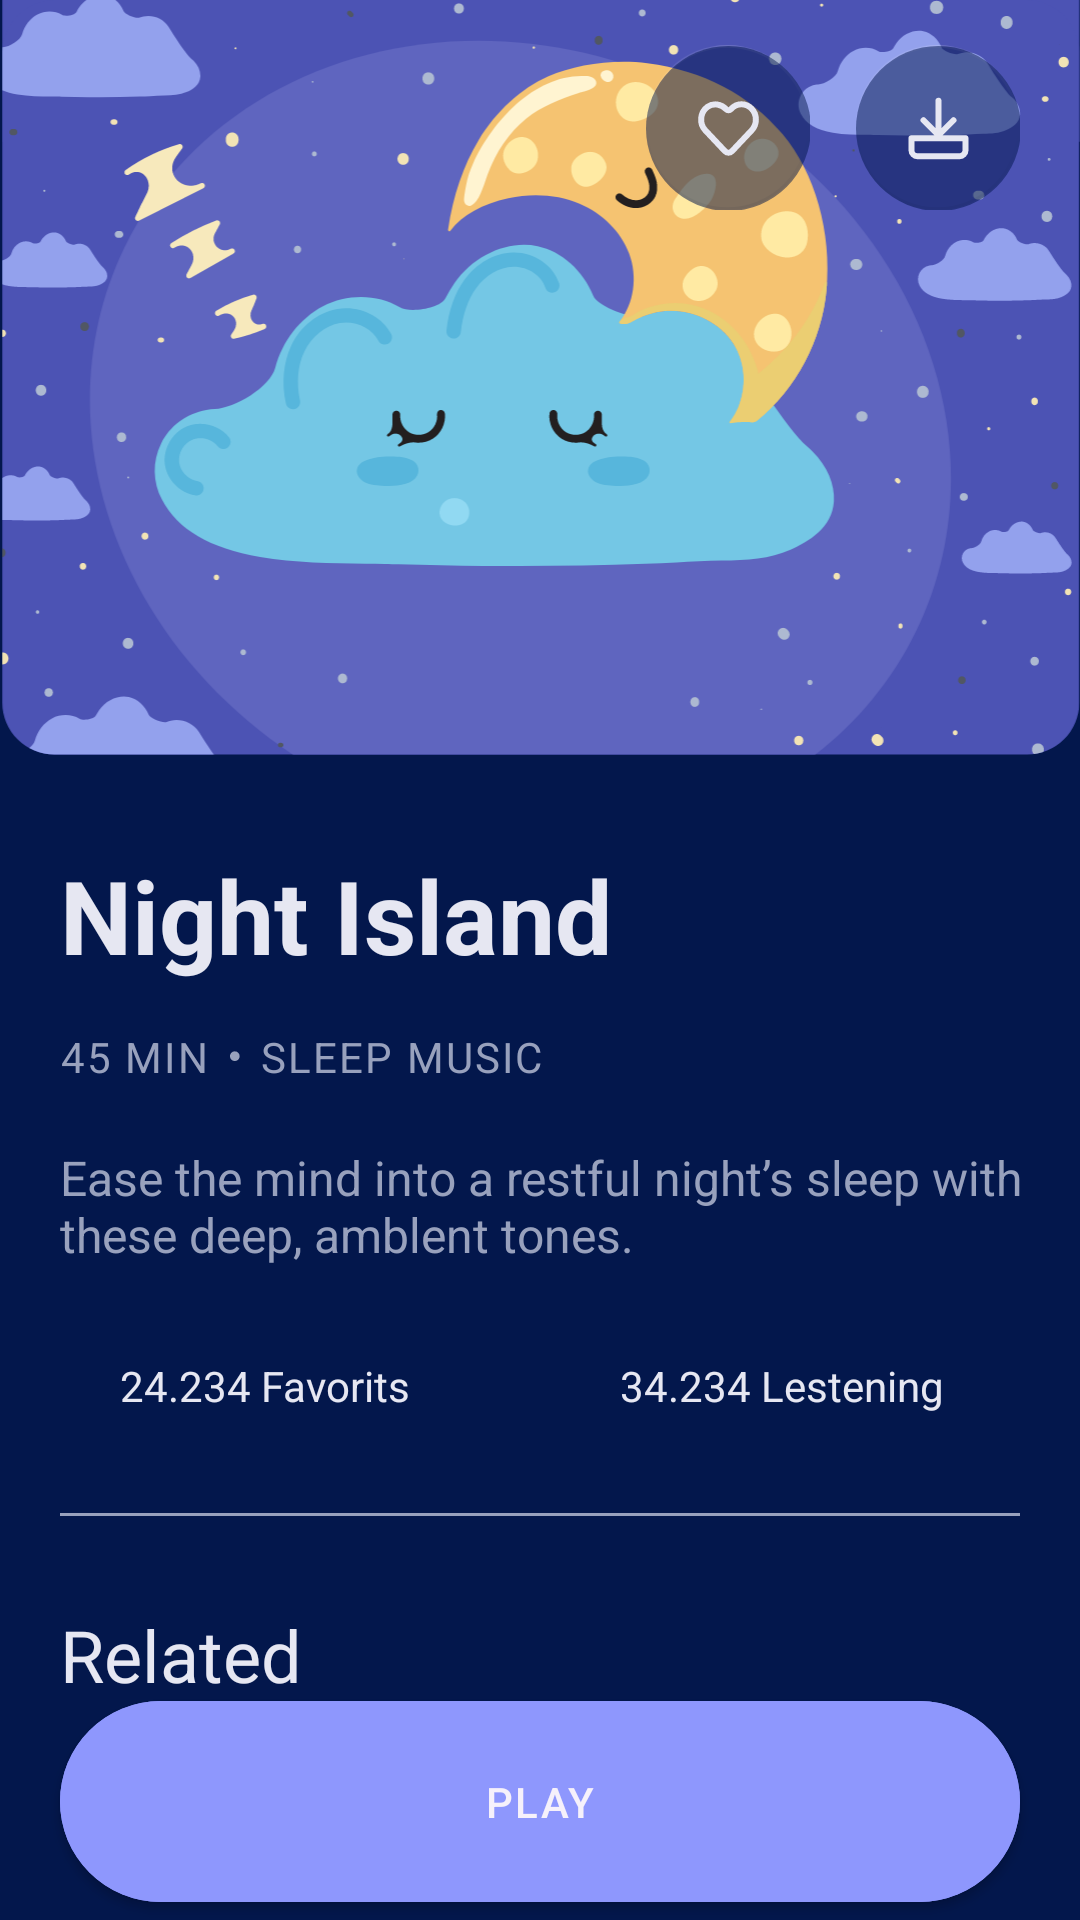

Screen size 1080w x 1920h. Icon name, then its center in pixels as (x,y):
music download: (937,127)
music like: (727,127)
